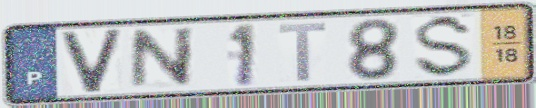1: (225, 21, 260, 88)
8: (343, 16, 403, 83)
N: (127, 24, 198, 92)
S: (410, 12, 478, 80)
T: (275, 20, 331, 84)
V: (57, 26, 126, 95)
